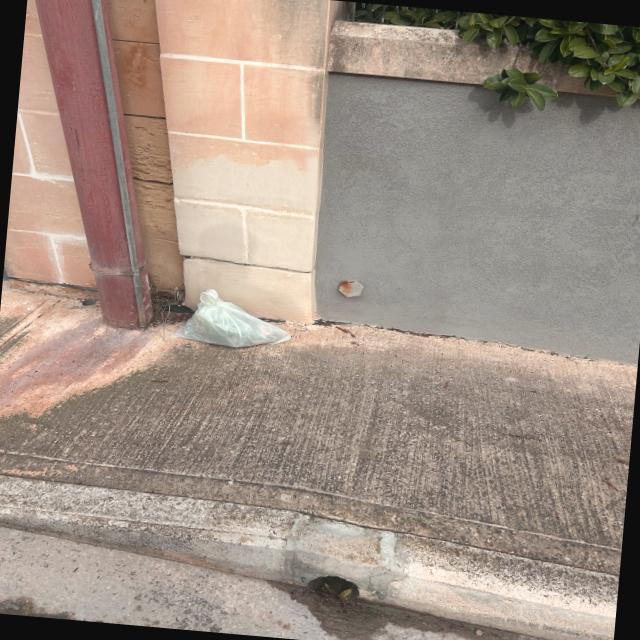white_bag: (168, 282, 296, 356)
